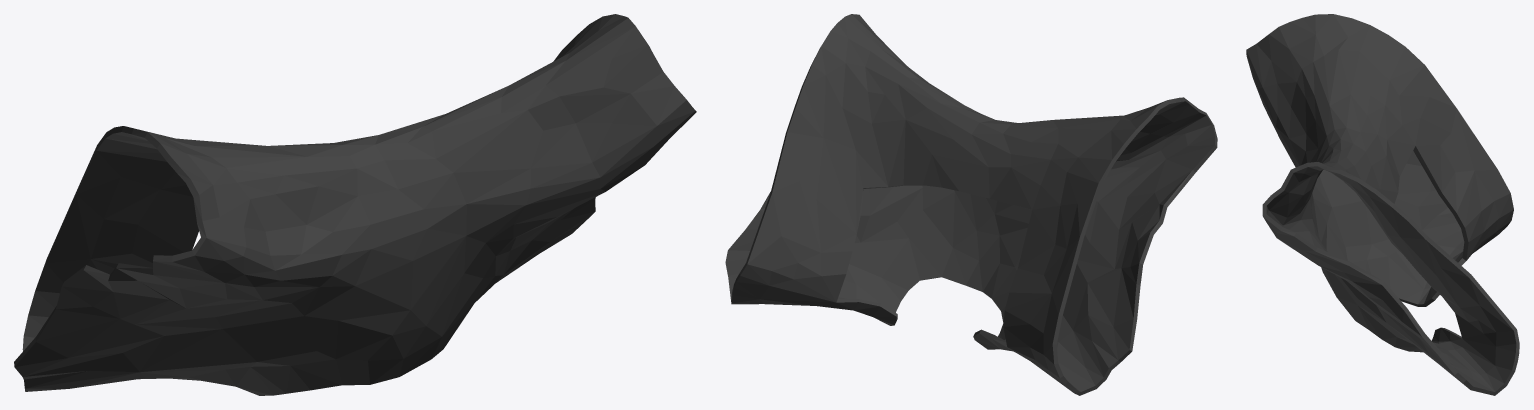
The model's file is c1_ventral_arch.glb.
The picture shows the model from 3 angles, left to right: view 1: azimuth 30°, elevation 25°; view 2: azimuth 150°, elevation 25°; view 3: azimuth 270°, elevation 25°; orthographic projection. The views are drawn at different scales.
Visible parts, largest first — view 1: c1_ventral_arch; view 2: c1_ventral_arch; view 3: c1_ventral_arch.
Part boxes in pixels (x1,y1,x2,y2): c1_ventral_arch: (14, 14, 696, 395); c1_ventral_arch: (725, 14, 1217, 395); c1_ventral_arch: (1246, 14, 1519, 395).
Bounding box in the file's own units: 23.64 × 13.89 × 14.27.
1 material, 1 textured.
